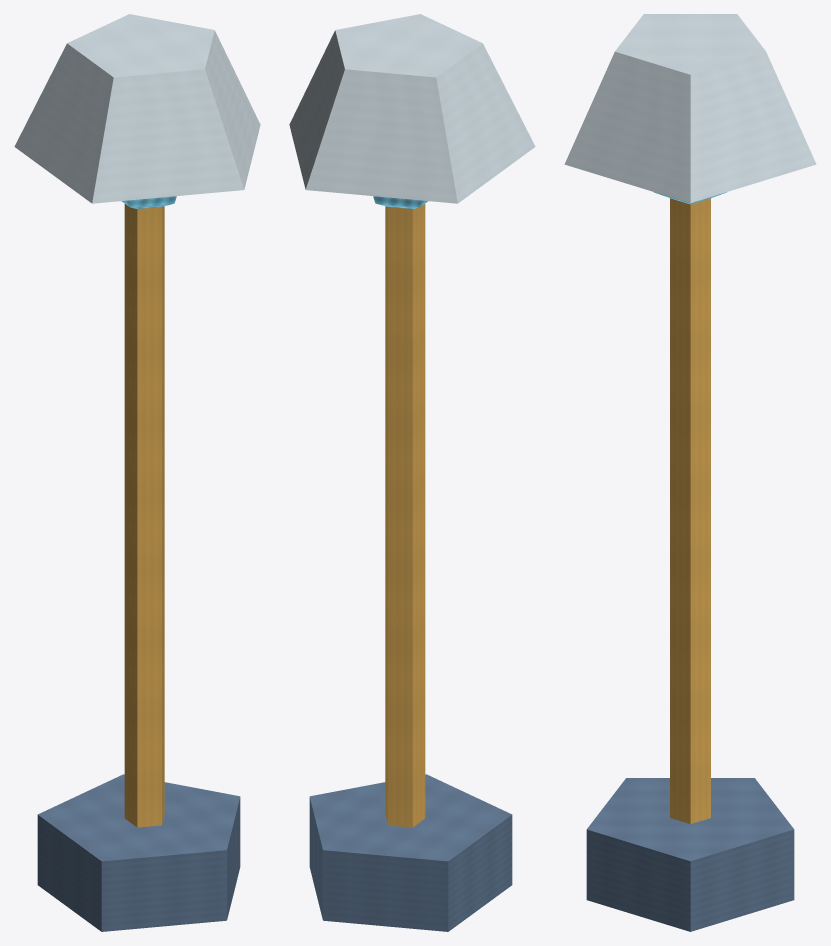
The model's file is atlas100-polar-util01.lod1.glb.
The picture shows the model from 3 angles, left to right: view 1: azimuth 30°, elevation 25°; view 2: azimuth 150°, elevation 25°; view 3: azimuth 270°, elevation 25°; orthographic projection.
Parts seen in each view (by area): view 1: atlas100-polar-util01:part-002, atlas100-polar-util01:part-001, atlas100-polar-util01:part-000; view 2: atlas100-polar-util01:part-002, atlas100-polar-util01:part-001, atlas100-polar-util01:part-000; view 3: atlas100-polar-util01:part-002, atlas100-polar-util01:part-001, atlas100-polar-util01:part-000.
Boxes of the visible parts, bbox=[...] form: atlas100-polar-util01:part-002: bbox=[14, 14, 260, 203]; atlas100-polar-util01:part-001: bbox=[124, 204, 164, 827]; atlas100-polar-util01:part-000: bbox=[37, 774, 240, 931]; atlas100-polar-util01:part-002: bbox=[289, 14, 535, 203]; atlas100-polar-util01:part-001: bbox=[385, 204, 425, 827]; atlas100-polar-util01:part-000: bbox=[309, 774, 512, 931]; atlas100-polar-util01:part-002: bbox=[564, 14, 816, 202]; atlas100-polar-util01:part-001: bbox=[670, 198, 710, 823]; atlas100-polar-util01:part-000: bbox=[586, 778, 794, 931].
Size of the model in its own units: 0.6999 by 2.72 by 0.736.
Materials: 4 (4 with a texture image).
